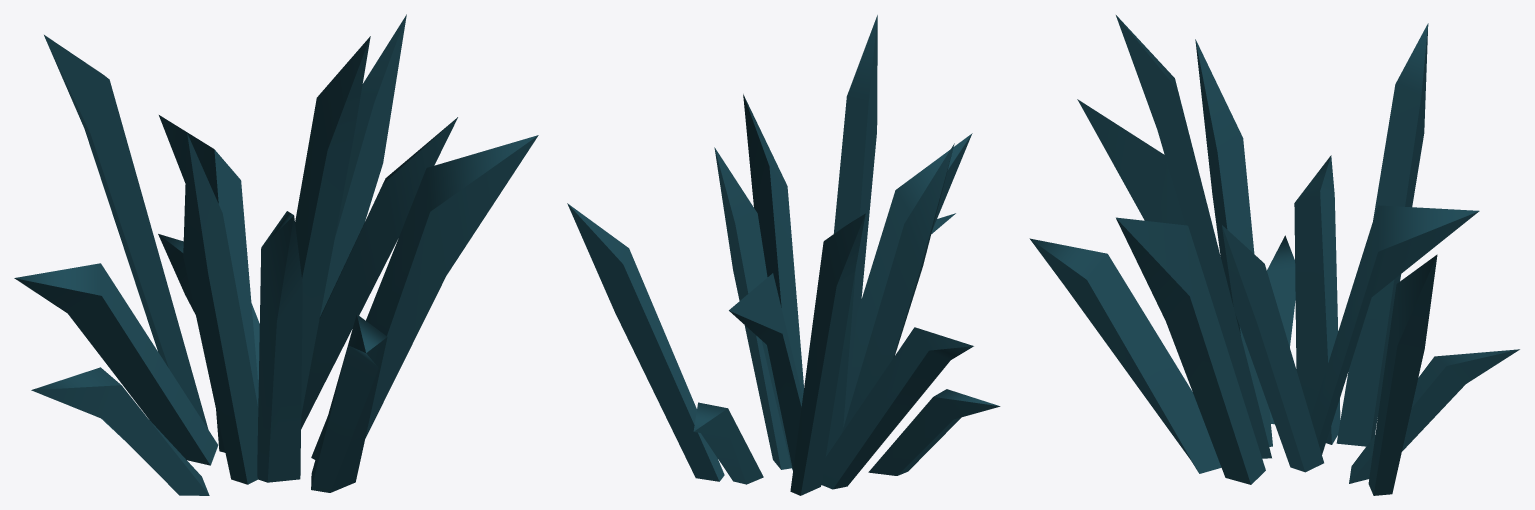
File: SM_Env_Reeds_03.fbx
3 views of the same model, side by side, from view 1: azimuth 30°, elevation 25°; view 2: azimuth 150°, elevation 25°; view 3: azimuth 270°, elevation 25° (orthographic). The views are drawn at different scales.
Visible parts, largest first — view 1: SM_Env_Reeds_03; view 2: SM_Env_Reeds_03; view 3: SM_Env_Reeds_03.
Boxes of the visible parts, x1,y1,x2,y2 form: SM_Env_Reeds_03: (14,14,538,495); SM_Env_Reeds_03: (567,15,1000,495); SM_Env_Reeds_03: (1029,15,1519,495).
Bounding box in the file's own units: 0.00995 × 0.0101 × 0.0101.
1 material, 1 textured.
